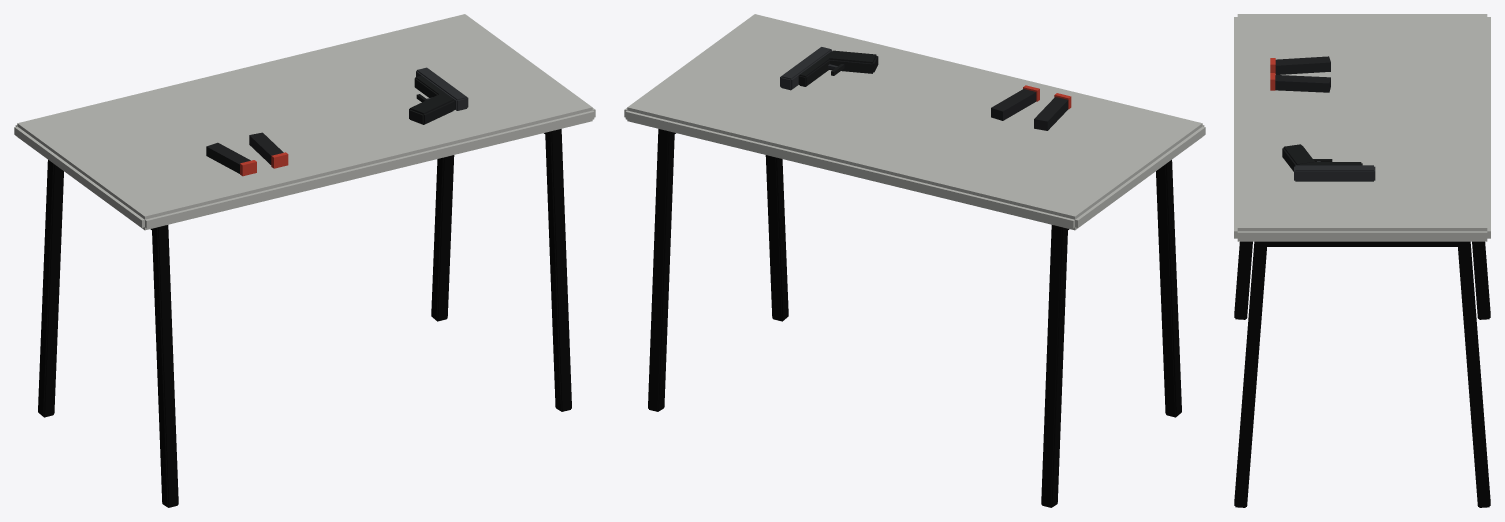
File: obj_table_start.glb
3 views of the same model, side by side, from view 1: azimuth 30°, elevation 25°; view 2: azimuth 150°, elevation 25°; view 3: azimuth 270°, elevation 25° (orthographic). The views are drawn at different scales.
Parts seen in each view (by area): view 1: top, table_start_body, grip, mag, slide; view 2: top, table_start_body, grip, mag.001, slide, mag; view 3: top, table_start_body, slide, mag.001, mag, grip.
Part boxes in pixels (left/top/right/bottom): top: left=14, top=14, right=595, bottom=230; table_start_body: left=38, top=129, right=571, bottom=507; grip: left=409, top=94, right=454, bottom=124; mag: left=206, top=142, right=250, bottom=173; slide: left=416, top=67, right=468, bottom=110; top: left=624, top=14, right=1205, bottom=230; table_start_body: left=648, top=129, right=1181, bottom=507; grip: left=829, top=50, right=878, bottom=73; mag.001: left=991, top=89, right=1036, bottom=120; slide: left=780, top=47, right=832, bottom=90; mag: left=1034, top=97, right=1068, bottom=130; top: left=1234, top=14, right=1490, bottom=241; table_start_body: left=1234, top=241, right=1490, bottom=507; slide: left=1294, top=165, right=1375, bottom=181; mag.001: left=1275, top=75, right=1330, bottom=92; mag: left=1275, top=56, right=1330, bottom=74; grip: left=1282, top=144, right=1314, bottom=171.
Size of the model in its own units: 1.2 by 0.781 by 0.6.
Materials: 6 (1 with a texture image).
